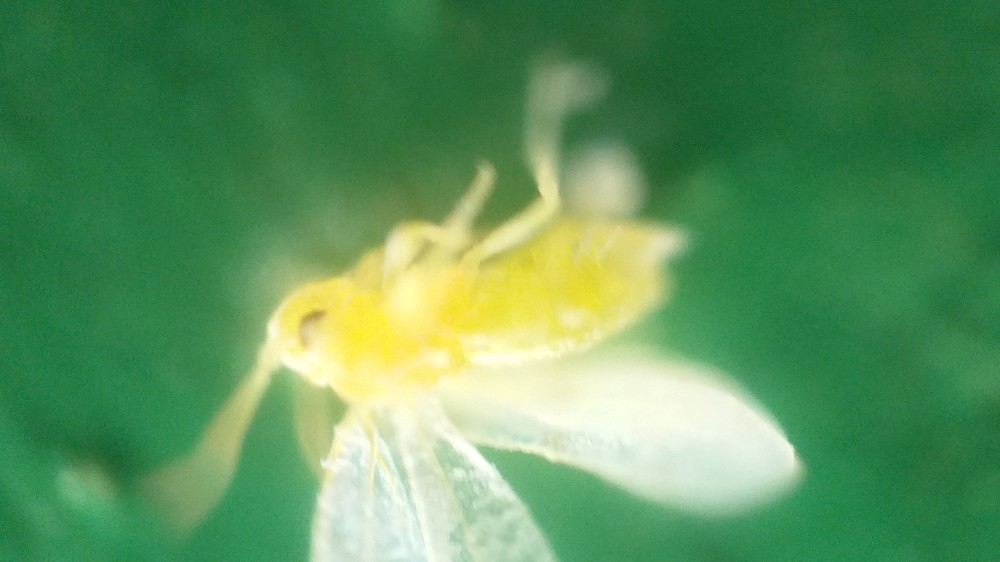Mosca Blanca: (179, 70, 820, 562)
